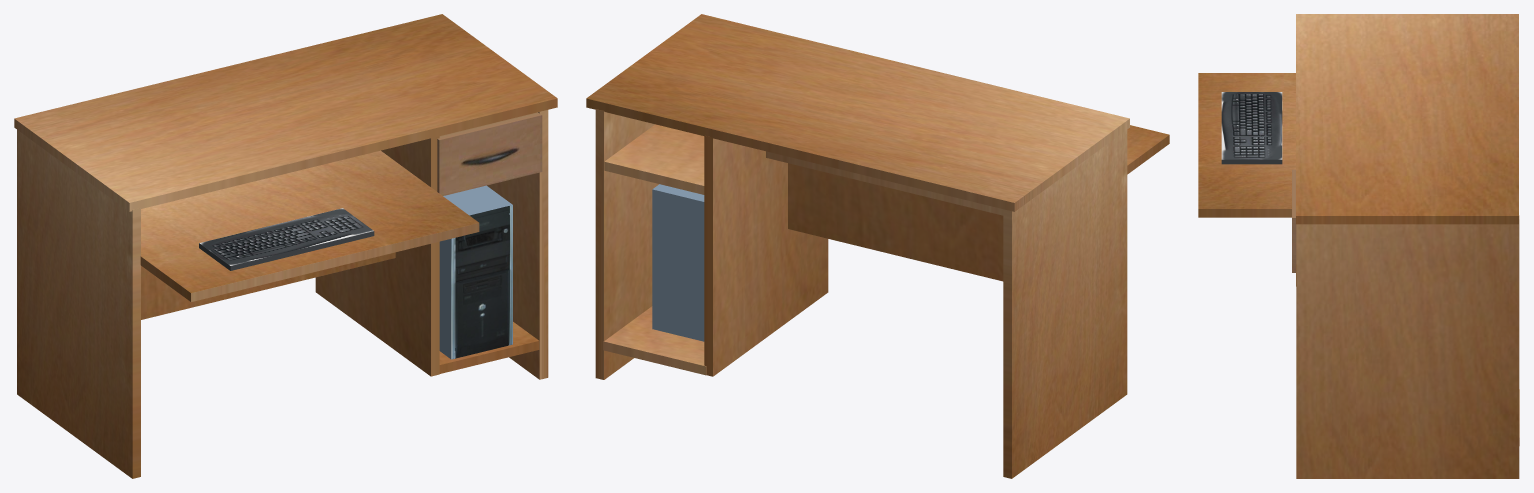
The model's file is desk.glb.
The picture shows the model from 3 angles, left to right: view 1: azimuth 30°, elevation 25°; view 2: azimuth 150°, elevation 25°; view 3: azimuth 270°, elevation 25°; orthographic projection. The views are drawn at different scales.
Parts seen in each view (by area): view 1: desk, shelf, Box001, drawer-face, keyboard; view 2: desk, Box001, shelf; view 3: desk, shelf, keyboard, drawer-face.
Boxes of the visible parts, x1,y1,x2,y2 form: desk: [14, 14, 557, 478]; shelf: [140, 150, 479, 301]; Box001: [439, 185, 512, 359]; drawer-face: [437, 112, 542, 195]; keyboard: [199, 208, 374, 270]; desk: [586, 14, 1129, 478]; Box001: [652, 184, 704, 341]; shelf: [766, 125, 1169, 215]; desk: [1296, 14, 1519, 478]; shelf: [1198, 73, 1295, 217]; keyboard: [1221, 92, 1282, 164]; drawer-face: [1292, 169, 1296, 272].
Bounding box in the file's own units: 52.36 × 32.37 × 35.24.
Materials: 5 (4 with a texture image).
